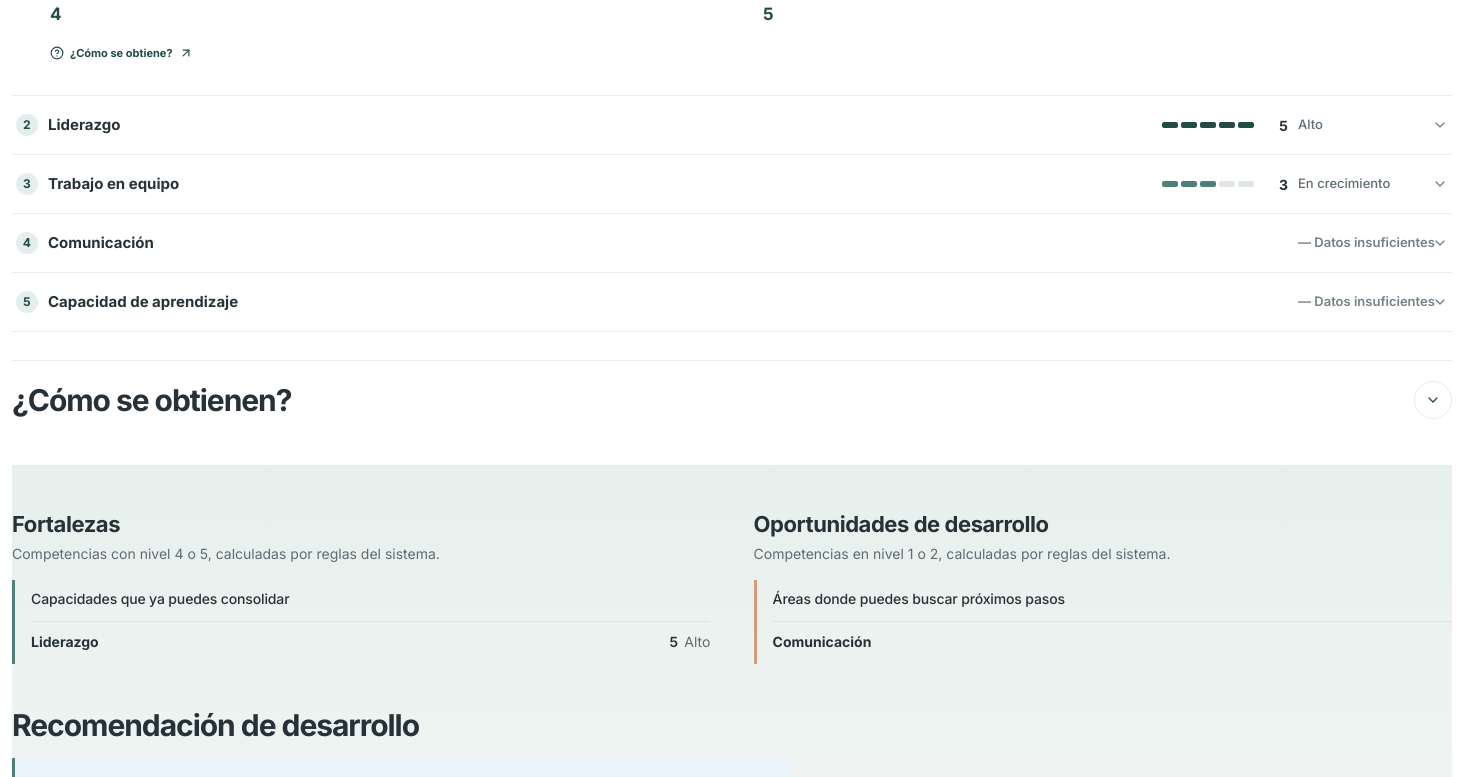
MiProgreso — «¿Cómo se obtienen?» desplegable › el toggle despliega y vuelve a plegar conservando las cinco filas
(page scrolled)
Click the button named "Mostrar u ocultar cómo se obtienen las competencias": [1433, 400] box [1414,381,1452,419]
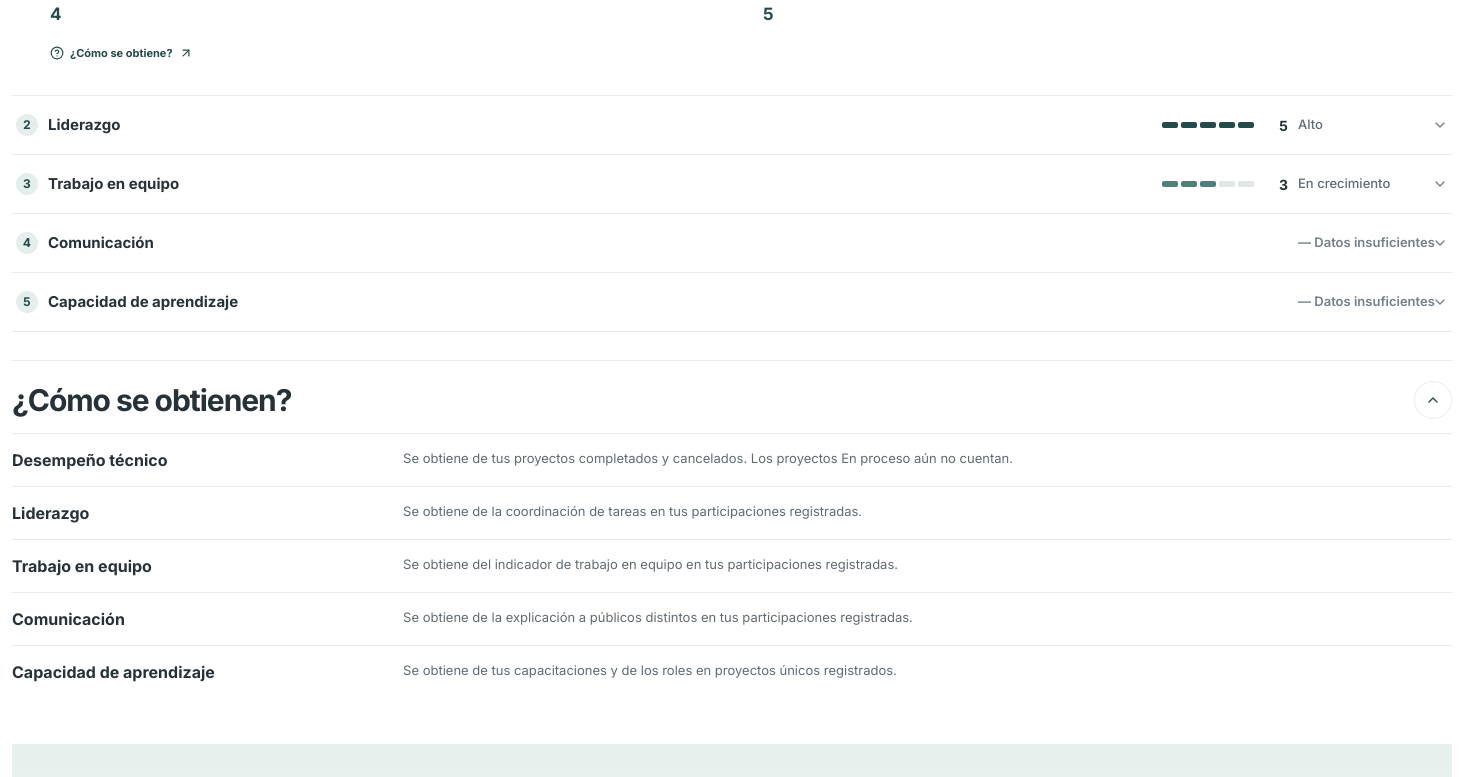
expect the button named "Mostrar u ocultar cómo se obtienen las competencias" is expanded: met
expect the number of elements with class "como-se-obtienen__fila" is 5: met, box [12,433,1452,486]; [12,486,1452,539]; [12,539,1452,592]; [12,592,1452,645]; [12,645,1452,698]
Click the button named "Mostrar u ocultar cómo se obtienen las competencias": [1433, 400] box [1414,381,1452,419]
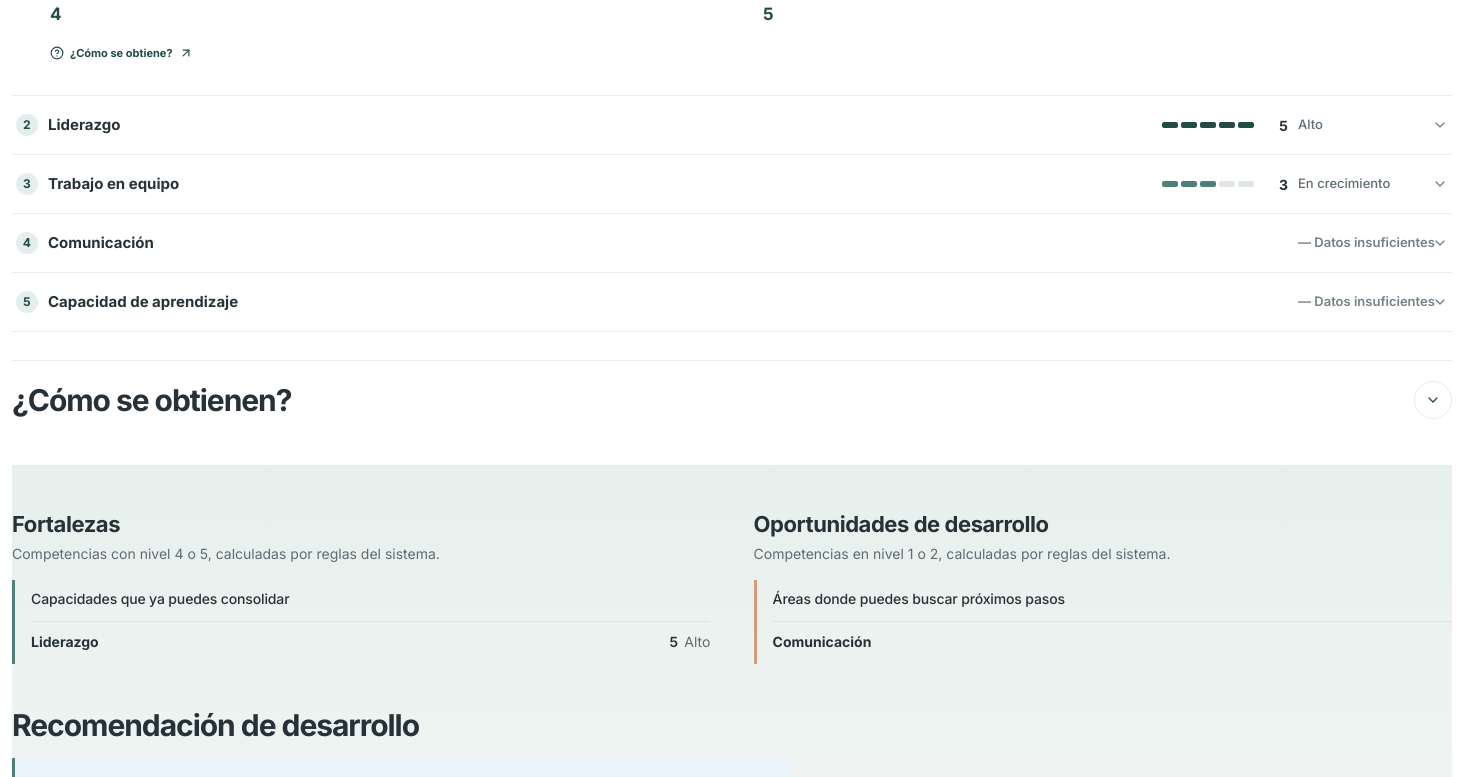
expect the button named "Mostrar u ocultar cómo se obtienen las competencias" is collapsed: met, box [1414,381,1452,419]
